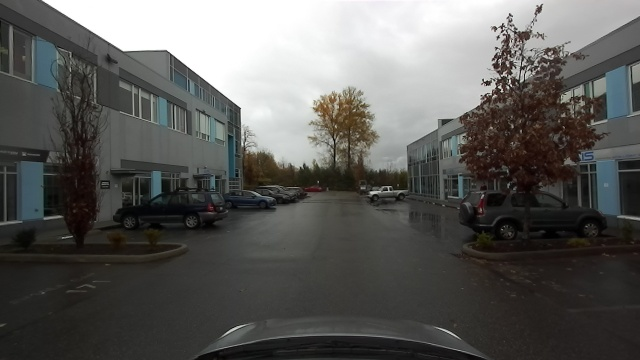car: (459, 189, 599, 244), (111, 187, 229, 231), (227, 188, 274, 214), (368, 184, 408, 204), (275, 189, 299, 202)
